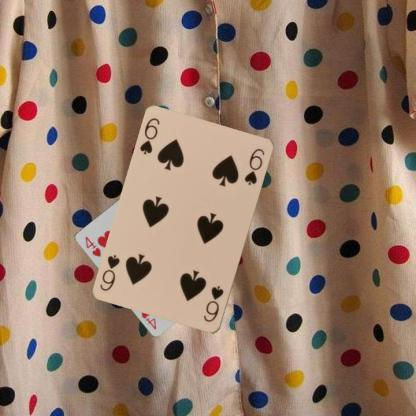4h: (83, 234, 102, 258)
6s: (201, 283, 225, 324), (137, 116, 161, 156)
